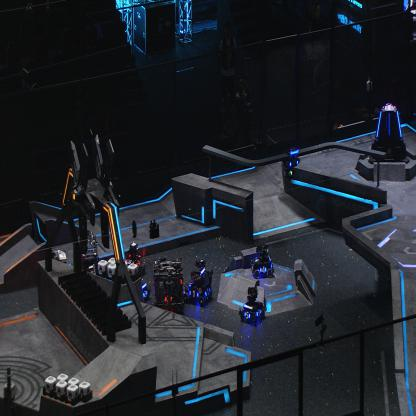car: (152, 257, 185, 313), (183, 258, 213, 308), (74, 228, 100, 281), (237, 286, 266, 326), (48, 248, 74, 286), (126, 269, 151, 306), (250, 243, 274, 278), (123, 242, 146, 277)
